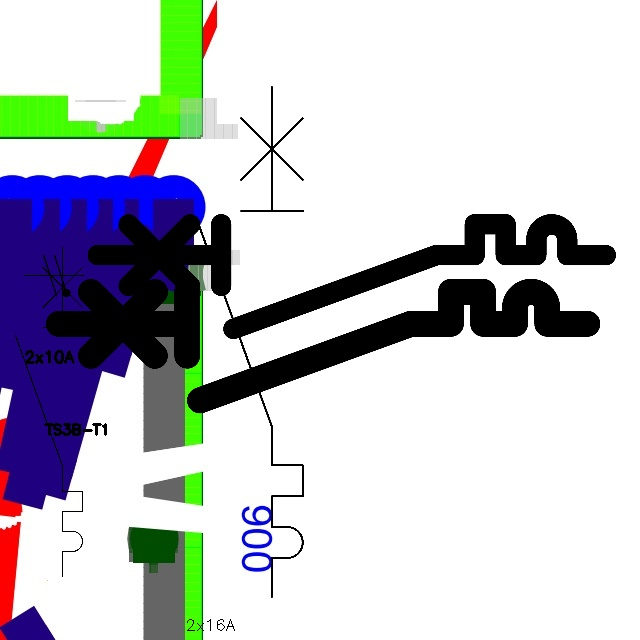interruptor_termomagnetico: (45, 278, 601, 414), (185, 74, 316, 610), (84, 211, 619, 342), (7, 239, 91, 585)
